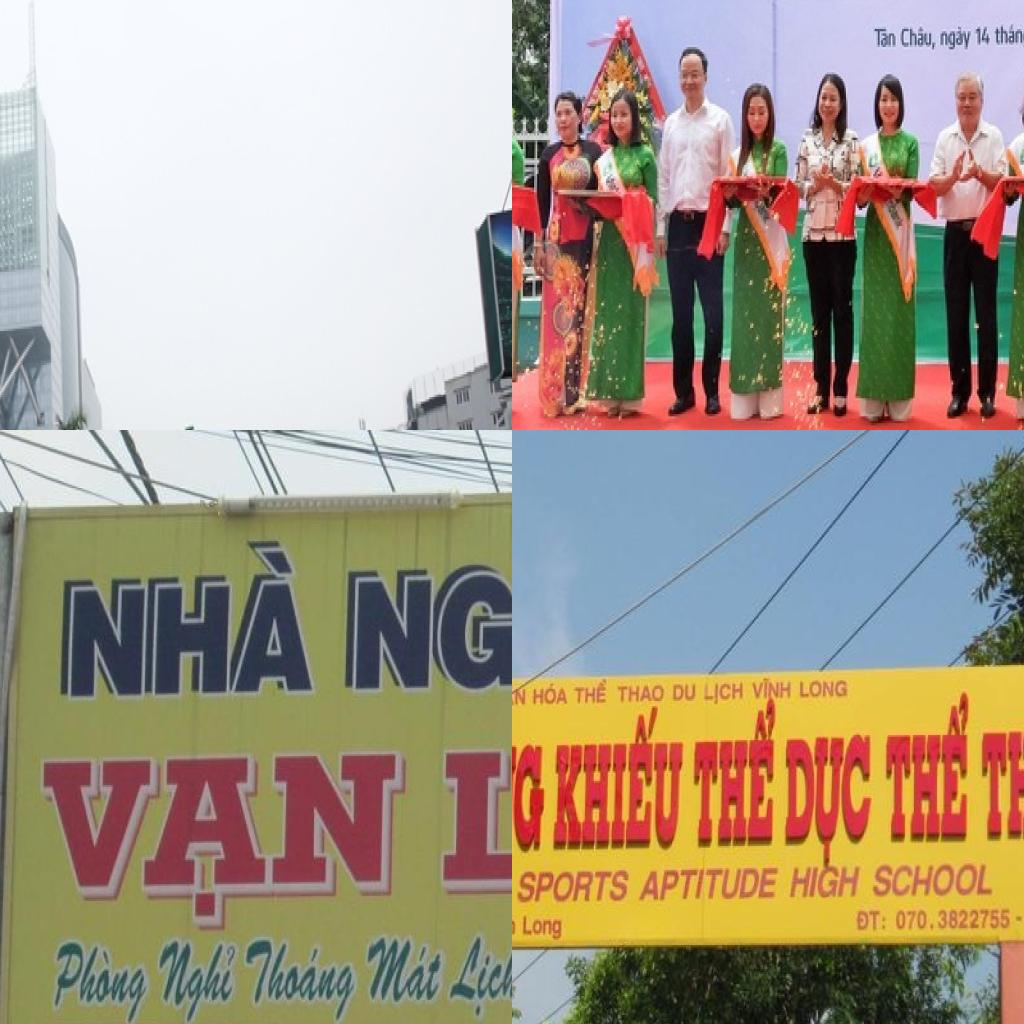text: (31, 748, 411, 938), (66, 543, 315, 703), (352, 517, 512, 694), (549, 706, 689, 853), (882, 680, 973, 846), (690, 696, 781, 851), (782, 730, 874, 870), (237, 937, 365, 1024), (45, 933, 155, 1024), (150, 935, 243, 1024), (357, 928, 451, 1008), (440, 932, 512, 1024), (635, 865, 781, 904), (872, 858, 1000, 899), (979, 725, 1024, 841), (516, 866, 632, 908), (512, 718, 546, 853), (787, 860, 864, 902), (896, 906, 1013, 933), (795, 672, 853, 703), (521, 911, 565, 943), (532, 678, 572, 708), (571, 675, 609, 706), (750, 674, 792, 702), (899, 24, 939, 52), (939, 22, 974, 54), (991, 20, 1024, 51), (703, 682, 745, 706), (852, 907, 888, 935), (616, 684, 667, 702), (874, 22, 900, 50), (974, 22, 993, 52), (672, 682, 698, 703), (512, 682, 527, 709)
